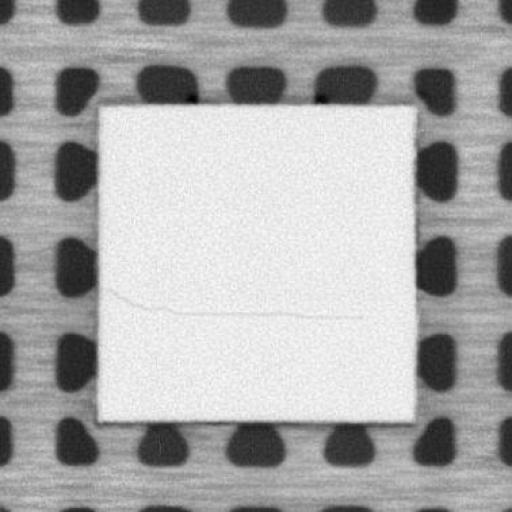DIE_CRACK: (107, 285, 362, 322)
